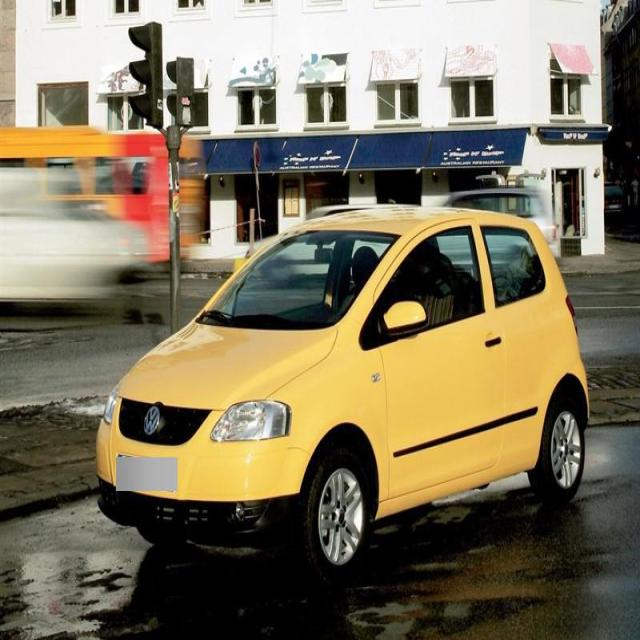back_left_side_light: (564, 291, 578, 334)
front_bumper: (94, 423, 321, 549)
front_glass: (197, 230, 401, 332)
front_left_side_door: (372, 215, 510, 504)
front_left_side_light: (208, 395, 292, 448)
front_left_side_mirror: (379, 299, 429, 339)
front_right_side_light: (102, 379, 121, 428)
wheel: (306, 441, 372, 571), (528, 396, 586, 498)
